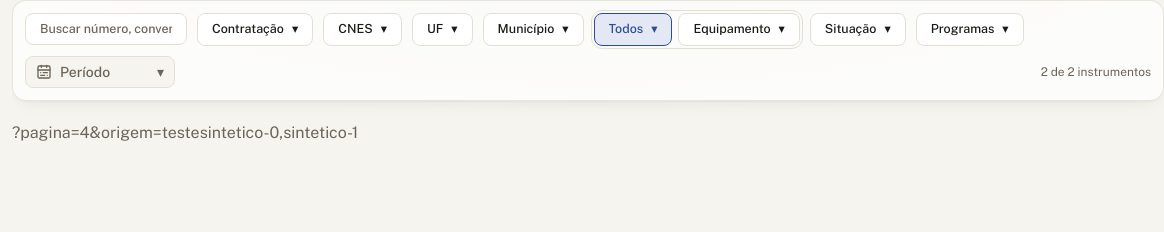
Test: Filtros reais do monitoramento e URL › aplica CNES e limpa o recorte sem apagar parâmetros externos
Click the button "CNES ▾".
click(363, 29)  # box [323,13,402,46]
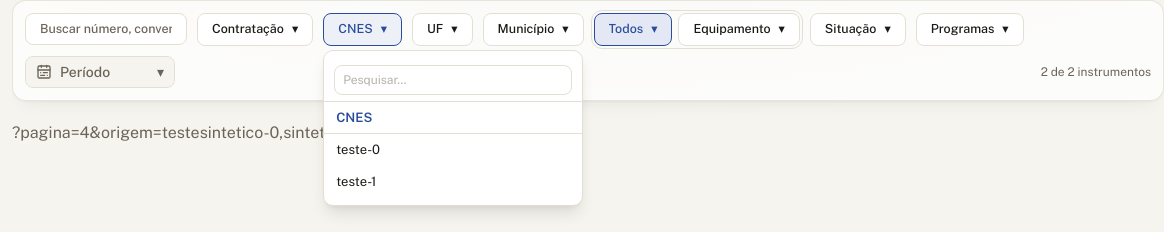
Click the option "teste-0".
click(453, 150)  # box [324,134,582,166]
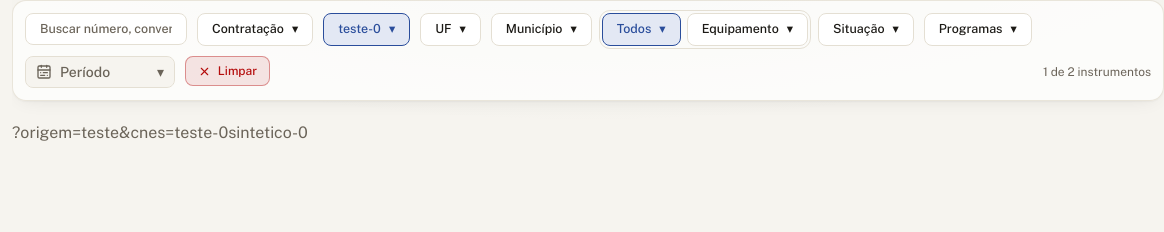
Result: the text named "Resultados" reads "sintetico-0" at [228,123,308,142]
Result: the text "1 de 2 instrumentos" is shown at [1043,65,1151,79]
Result: the text named "URL" no longer shows "pagina=" at [12,123,228,142]
Click the button with aria-label "Limpar filtros".
click(227, 71)  # box [185,56,270,86]
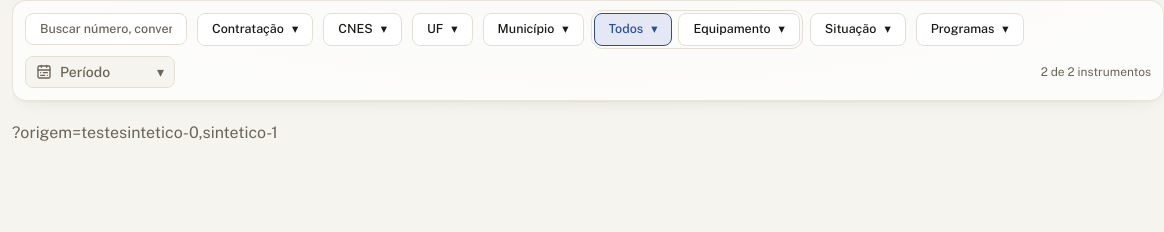
Expected: the text named "URL" reads "?origem=teste", [12,123,119,142]
Result: the text "2 de 2 instrumentos" is shown at [1041,65,1151,79]
